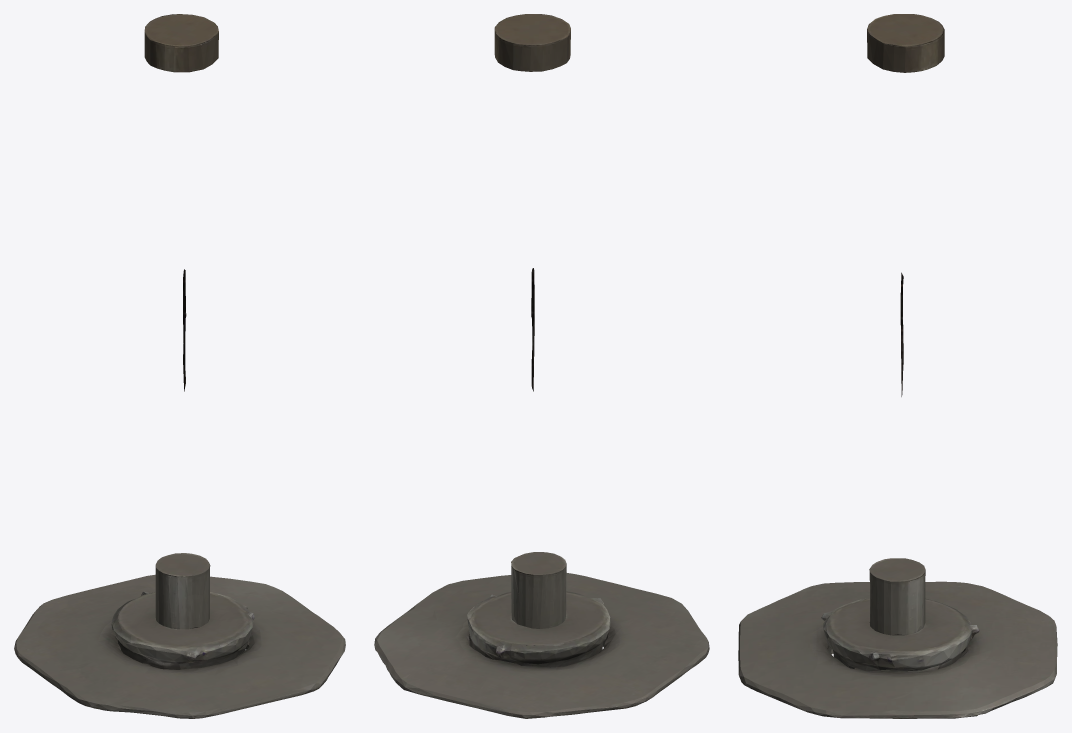
The model's file is ast_ceea9d7f3729.glb.
3 views of the same model, side by side, from view 1: azimuth 30°, elevation 25°; view 2: azimuth 150°, elevation 25°; view 3: azimuth 270°, elevation 25° (orthographic).
Parts seen in each view (by area): view 1: geometry_0; view 2: geometry_0; view 3: geometry_0.
Boxes of the visible parts, box(x1,y1,x2,y2) form: geometry_0: box(14, 14, 345, 718); geometry_0: box(374, 14, 709, 718); geometry_0: box(738, 14, 1057, 718).
Bounding box in the file's own units: 0.4253 × 1 × 0.4327.
1 material, 1 textured.
